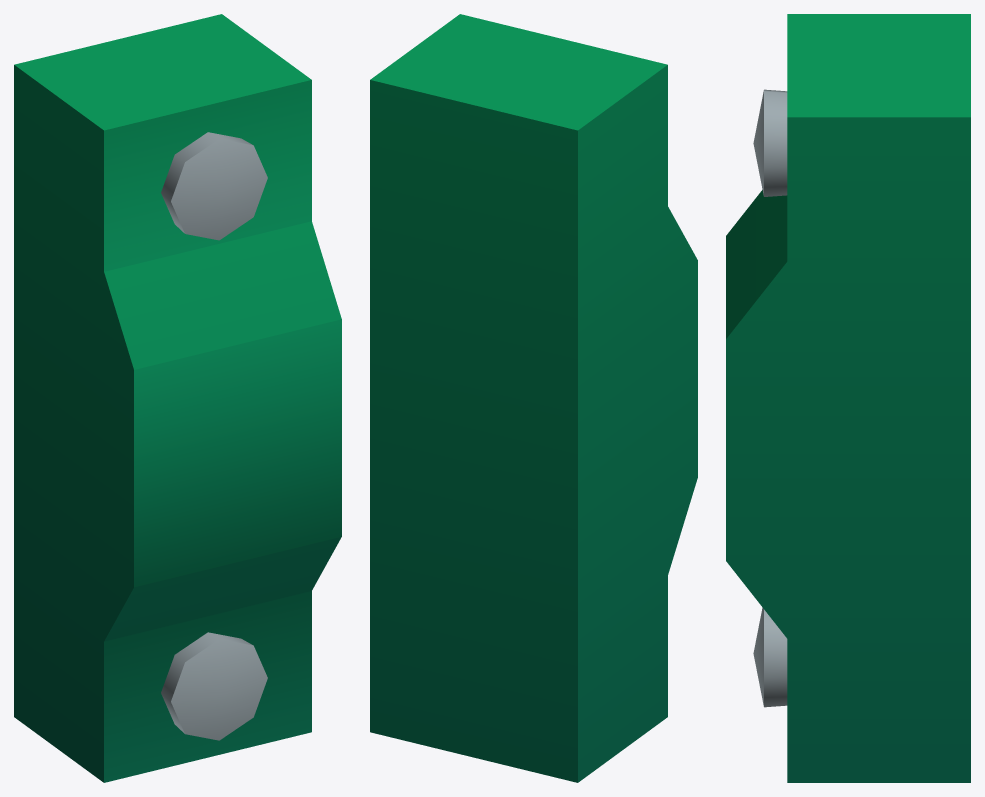
Rendered from bracing_small_green.glb.
The picture shows the model from 3 angles, left to right: view 1: azimuth 30°, elevation 25°; view 2: azimuth 150°, elevation 25°; view 3: azimuth 270°, elevation 25°; orthographic projection. The views are drawn at different scales.
Parts seen in each view (by area): view 1: bracing_small_green; view 2: bracing_small_green; view 3: bracing_small_green.
Boxes of the visible parts, x1,y1,x2,y2 form: bracing_small_green: [14, 14, 341, 782]; bracing_small_green: [370, 14, 697, 782]; bracing_small_green: [726, 14, 970, 782].
Size of the model in its own units: 0.2 by 0.6 by 0.2.
1 material, 1 textured.
